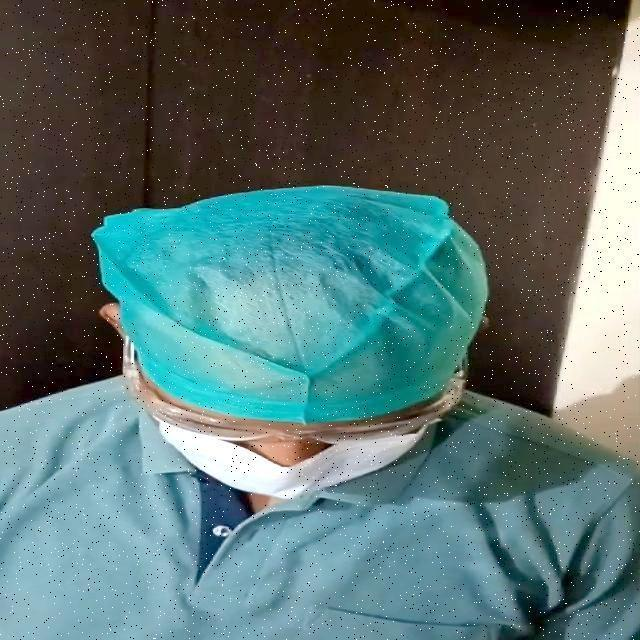gloves: (96, 174, 477, 412)
mask: (159, 427, 427, 525)
